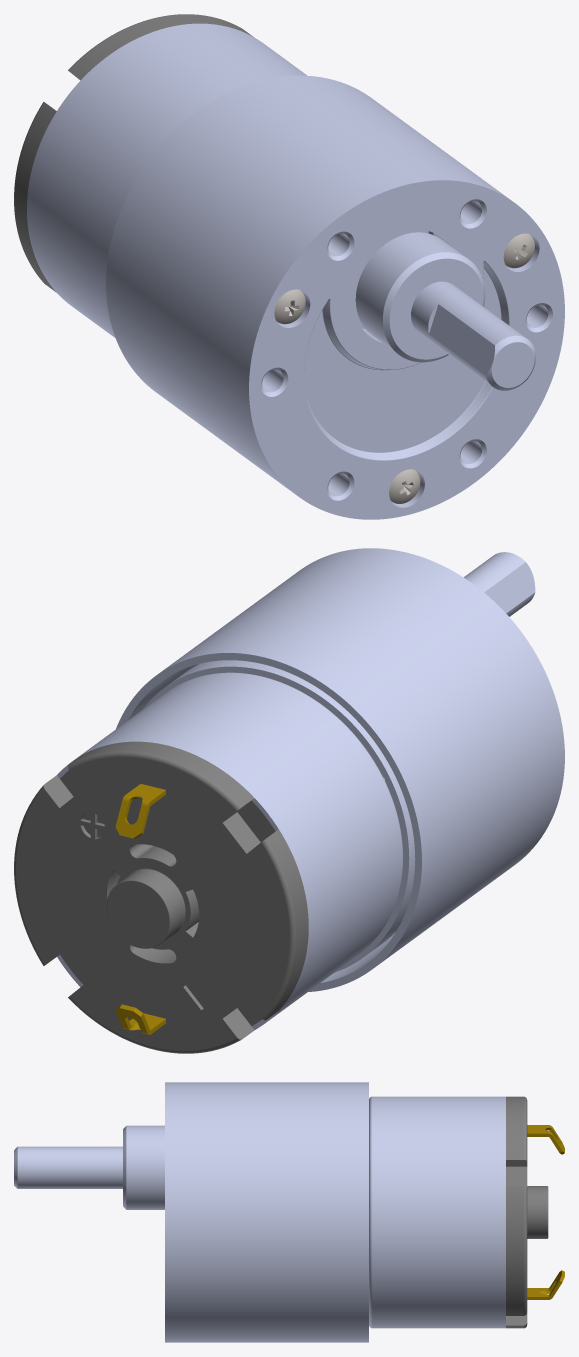
Rendered from JGB37-520_converted.glb.
3 renders of one model, top to bottom at view 1: azimuth 30°, elevation 25°; view 2: azimuth 150°, elevation 25°; view 3: azimuth 270°, elevation 25°, orthographic. The views are drawn at different scales.
Parts seen in each view (by area): view 1: NAUO1, NAUO2, NAUO4, NAUO3, NAUO6, NAUO9, NAUO11, NAUO10; view 2: NAUO1, NAUO6, NAUO2, NAUO5, NAUO3, NAUO7, NAUO8; view 3: NAUO1, NAUO2, NAUO6, NAUO3, NAUO4, NAUO7, NAUO8.
Boxes of the visible parts, x1=… form: NAUO1: x1=106, y1=75, x2=564, y2=519; NAUO2: x1=27, y1=23, x2=306, y2=337; NAUO4: x1=355, y1=232, x2=485, y2=362; NAUO3: x1=411, y1=281, x2=535, y2=390; NAUO6: x1=14, y1=14, x2=252, y2=292; NAUO9: x1=274, y1=289, x2=305, y2=324; NAUO11: x1=503, y1=233, x2=534, y2=268; NAUO10: x1=389, y1=469, x2=420, y2=503; NAUO1: x1=116, y1=548, x2=564, y2=991; NAUO6: x1=14, y1=741, x2=308, y2=1053; NAUO2: x1=57, y1=672, x2=402, y2=1029; NAUO5: x1=143, y1=660, x2=415, y2=972; NAUO3: x1=464, y1=552, x2=535, y2=616; NAUO7: x1=115, y1=784, x2=165, y2=838; NAUO8: x1=115, y1=1004, x2=165, y2=1034; NAUO1: x1=165, y1=1082, x2=368, y2=1342; NAUO2: x1=369, y1=1096, x2=505, y2=1328; NAUO6: x1=506, y1=1096, x2=548, y2=1328; NAUO3: x1=14, y1=1146, x2=122, y2=1188; NAUO4: x1=123, y1=1125, x2=164, y2=1209; NAUO7: x1=527, y1=1125, x2=564, y2=1154; NAUO8: x1=527, y1=1270, x2=564, y2=1299.
Size of the model in its own units: 0.037 by 0.037 by 0.0784.
